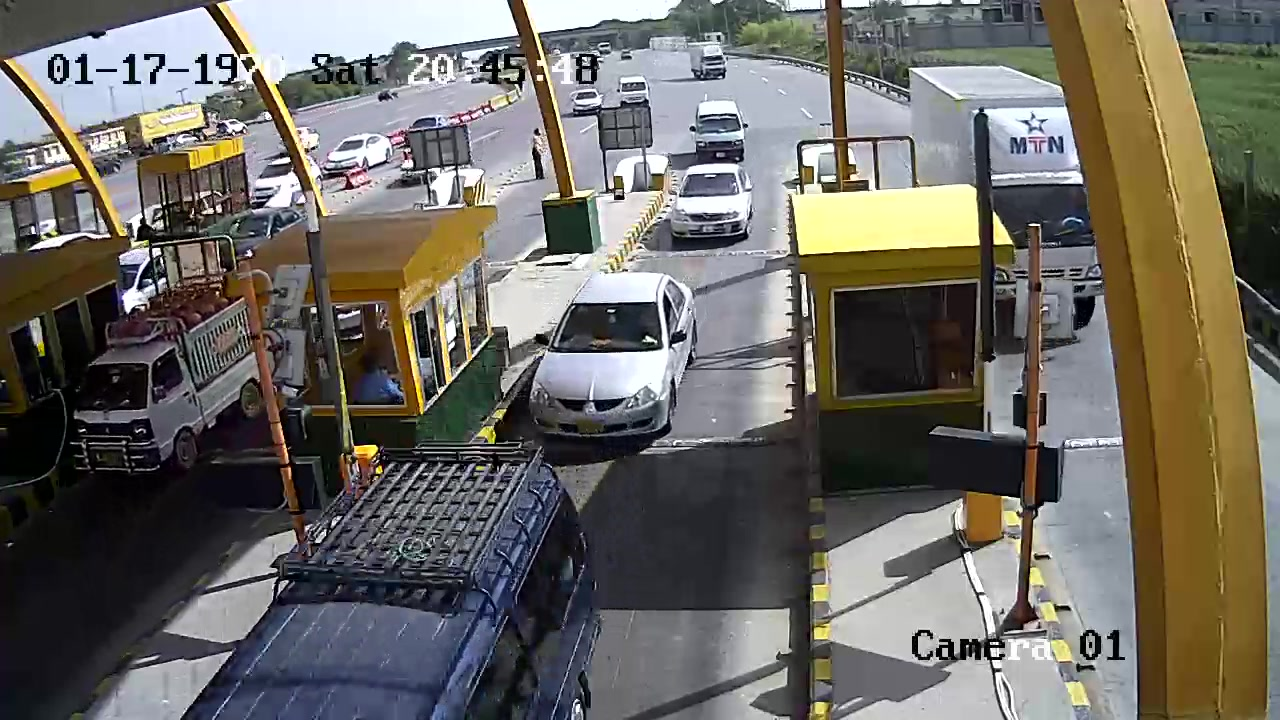F1: (517, 262, 707, 453)
